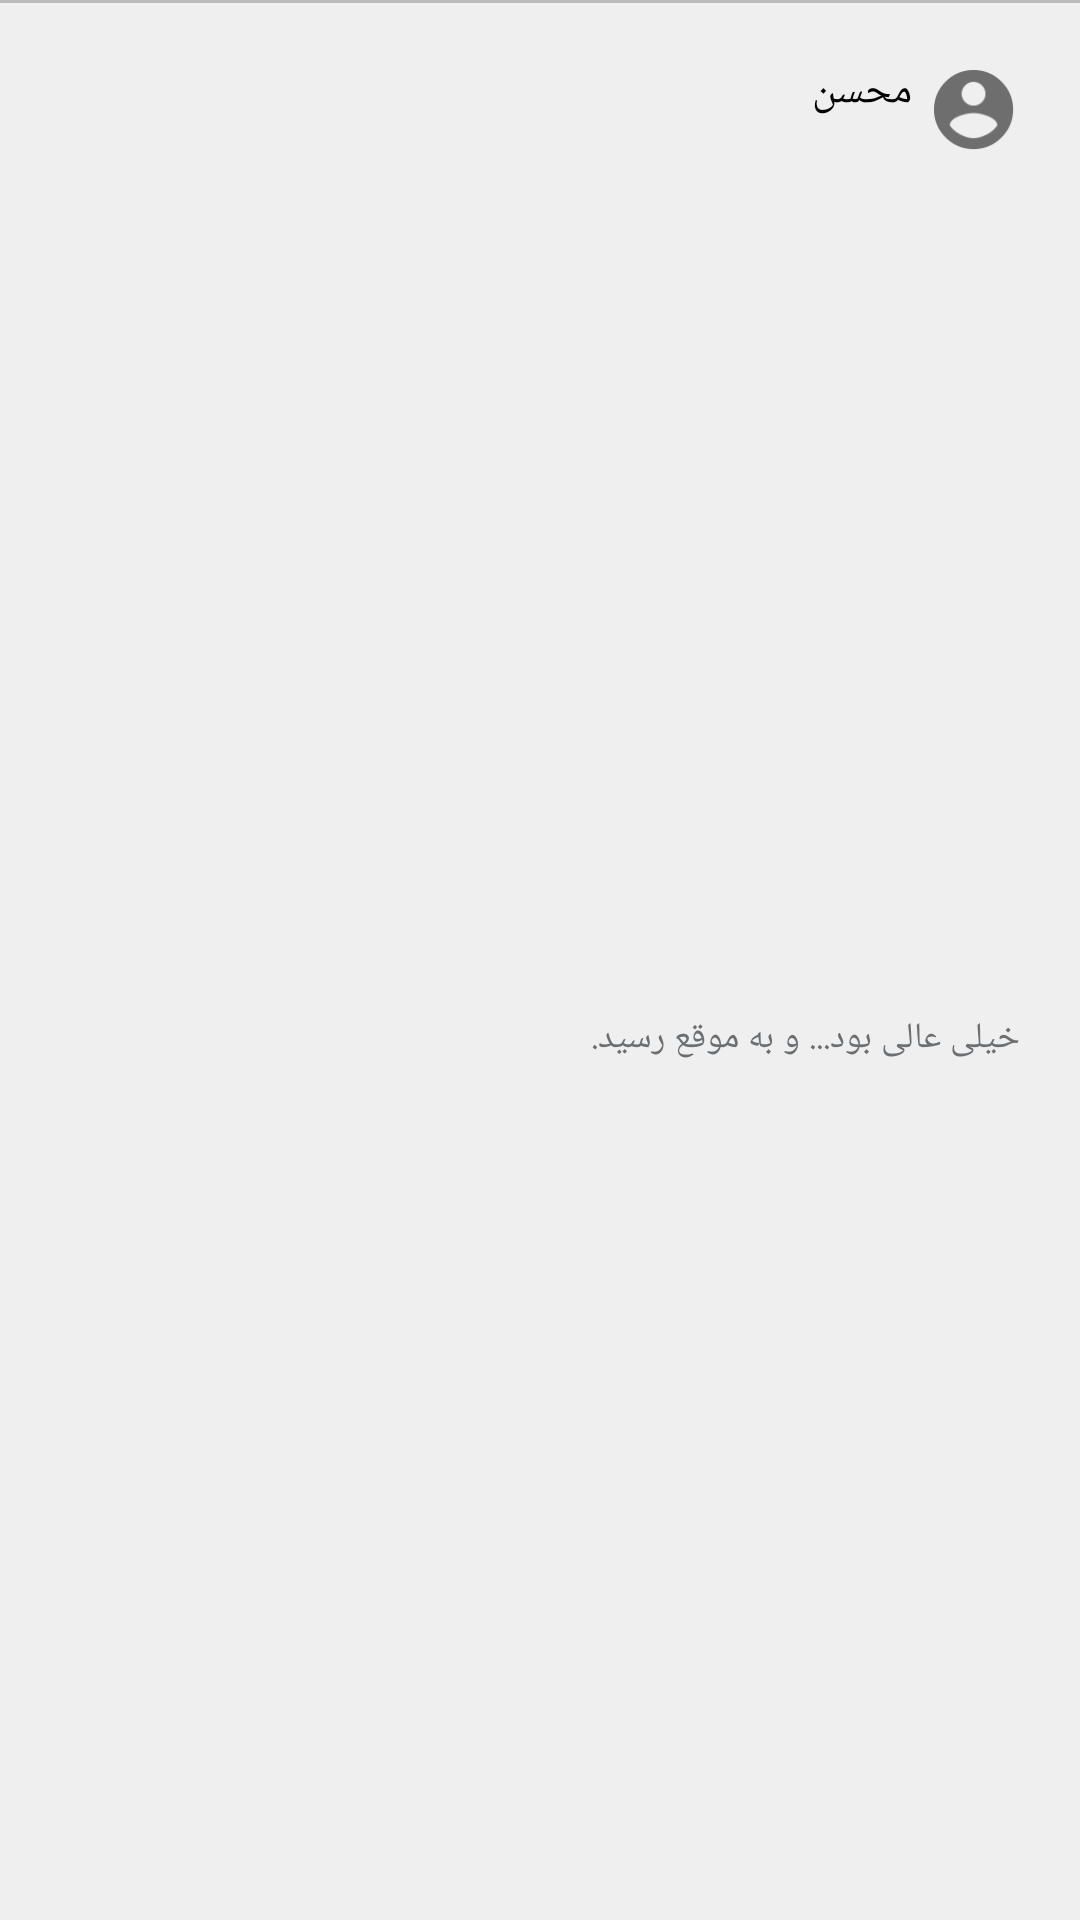

Named icons in this screenshot (1080 × 1920) and their bounding boxes, (left=x1, top=y1, right=x2, bottom=y2):
account circle: (left=934, top=70, right=1013, bottom=149)
